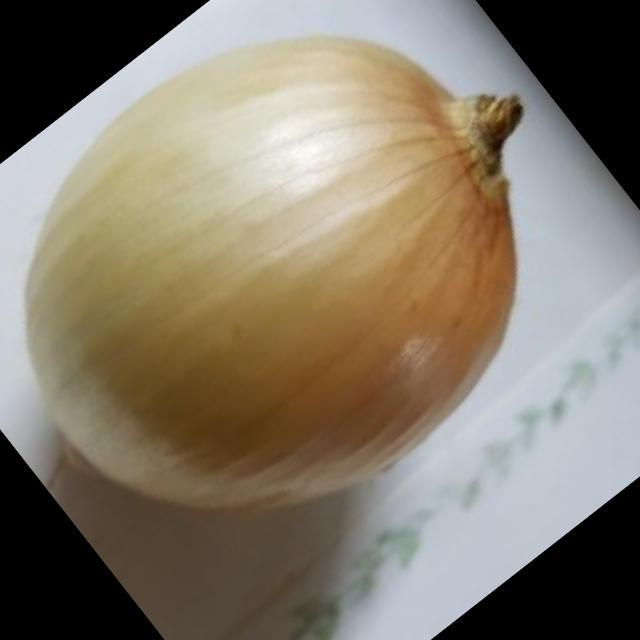Onion: (27, 39, 518, 520)
